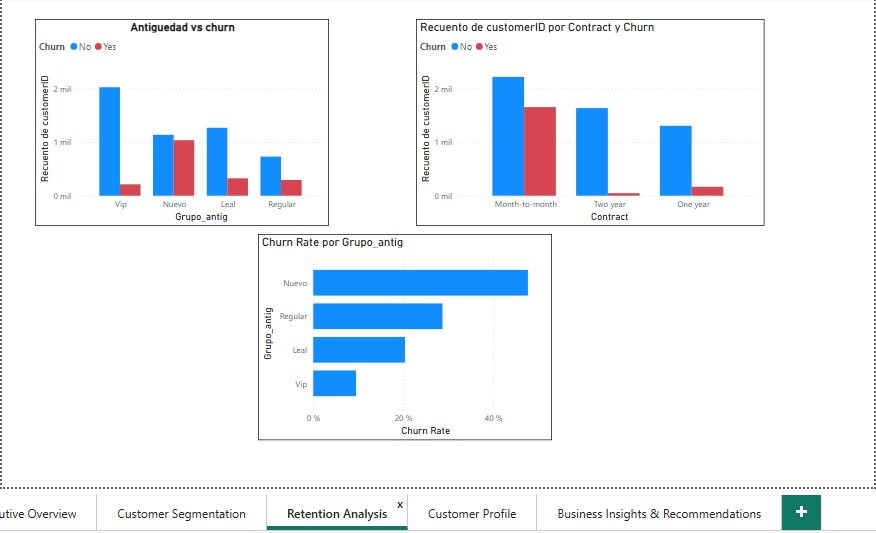

The dashboard page shown, as its layout file describes it:
{"tool":"powerbi","page":{"name":"Retention Analysis","canvas":[1280,720],"ordinal":2},"visuals":[{"type":"clusteredColumnChart","title":"Antiguedad vs churn","fields":{"Category":["churn_limpio.Grupo_antig"],"Series":["churn_limpio.Churn"],"Y":["CountNonNull(churn_limpio.customerID)"]},"box":[48,32,432,304],"z":0},{"type":"clusteredColumnChart","fields":{"Category":["churn_limpio.Contract"],"Series":["churn_limpio.Churn"],"Y":["CountNonNull(churn_limpio.customerID)"]},"box":[608,32,512,304],"z":1000},{"type":"clusteredBarChart","fields":{"Category":["churn_limpio.Grupo_antig"],"Y":["Medidas.Churn Rate"]},"box":[376.2,348.2,432,302.7],"z":3000}]}

Visuals, with their boxes in screenshot pixels (x1, y1, x2, y2):
"Antiguedad vs churn" clusteredColumnChart: bbox=(37, 19, 329, 224)
clusteredColumnChart - churn_limpio.Contract x churn_limpio.Churn: bbox=(415, 19, 760, 224)
clusteredBarChart - churn_limpio.Grupo_antig x Medidas.Churn Rate: bbox=(258, 233, 550, 437)
